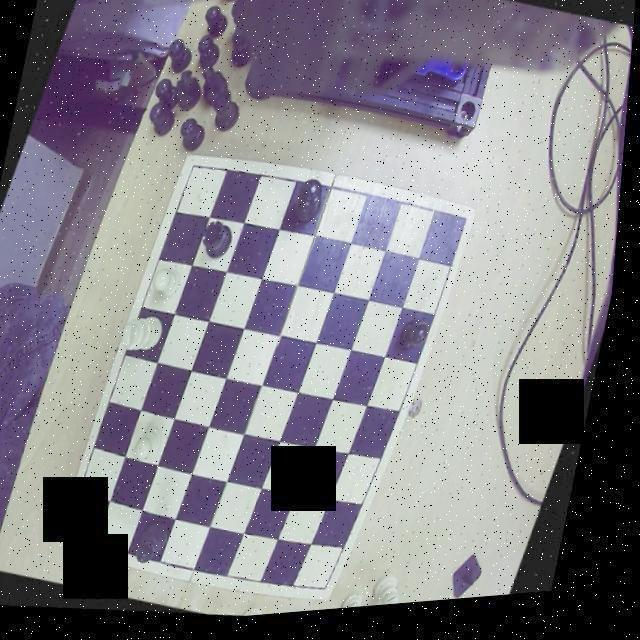chess-table-corners: (452, 213, 481, 246), (184, 154, 213, 186), (64, 516, 90, 549), (318, 581, 344, 609)
